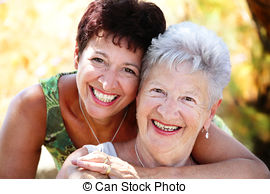face: (134, 19, 233, 165), (66, 1, 146, 116)
